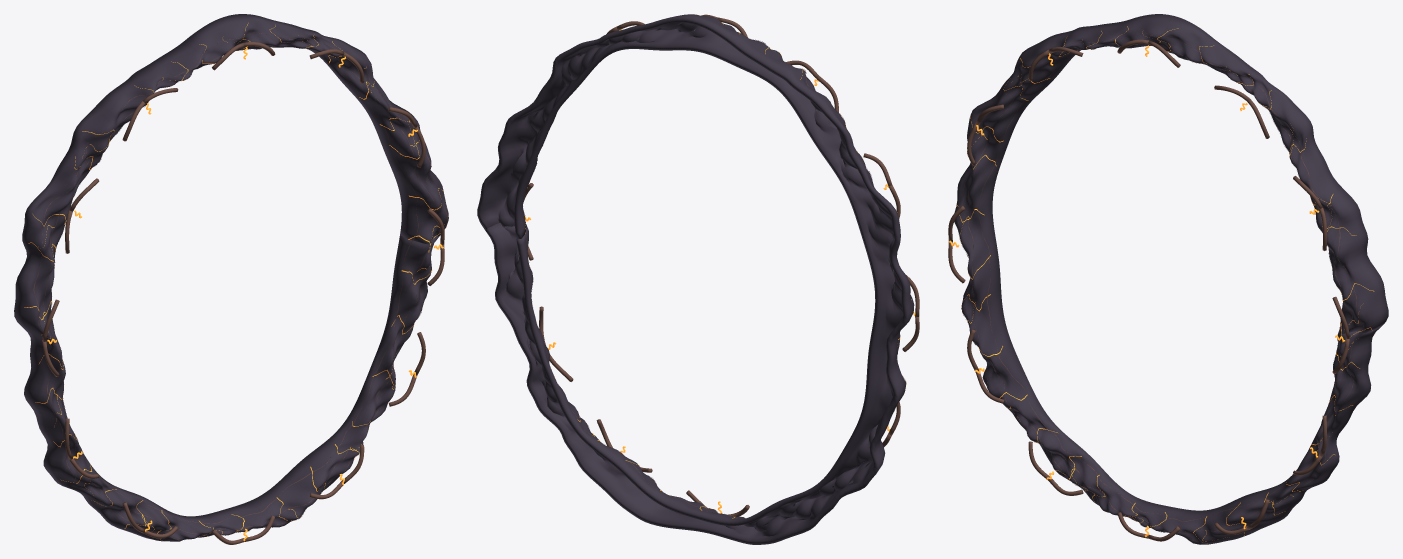
Rendered from CathedralRiftV19.fbx.
3 views of the same model, side by side, from view 1: azimuth 30°, elevation 25°; view 2: azimuth 150°, elevation 25°; view 3: azimuth 330°, elevation 25° (orthographic).
Visible parts, largest first — view 1: Rift_Obsidian, Rift_Vitrified, Rift_Ember; view 2: Rift_Obsidian, Rift_Vitrified; view 3: Rift_Obsidian, Rift_Vitrified, Rift_Ember.
Boxes of the visible parts, box(x1,y1,x2,y2) form: Rift_Obsidian: box(14, 14, 448, 541); Rift_Vitrified: box(33, 32, 448, 544); Rift_Ember: box(24, 23, 446, 541); Rift_Obsidian: box(477, 14, 914, 544); Rift_Vitrified: box(523, 14, 919, 518); Rift_Obsidian: box(954, 14, 1388, 544); Rift_Vitrified: box(948, 31, 1363, 543); Rift_Ember: box(949, 26, 1374, 544).
Bounding box in the file's own units: 1.72 × 1.96 × 0.1675.
